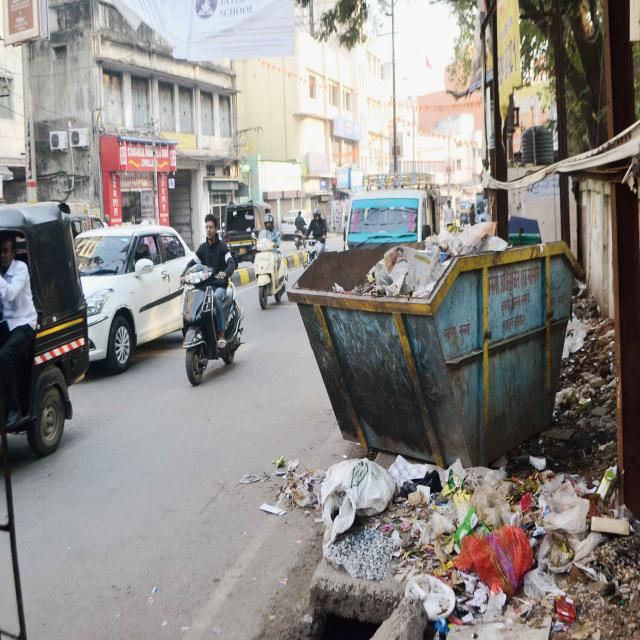garbage: (258, 246, 640, 640)
